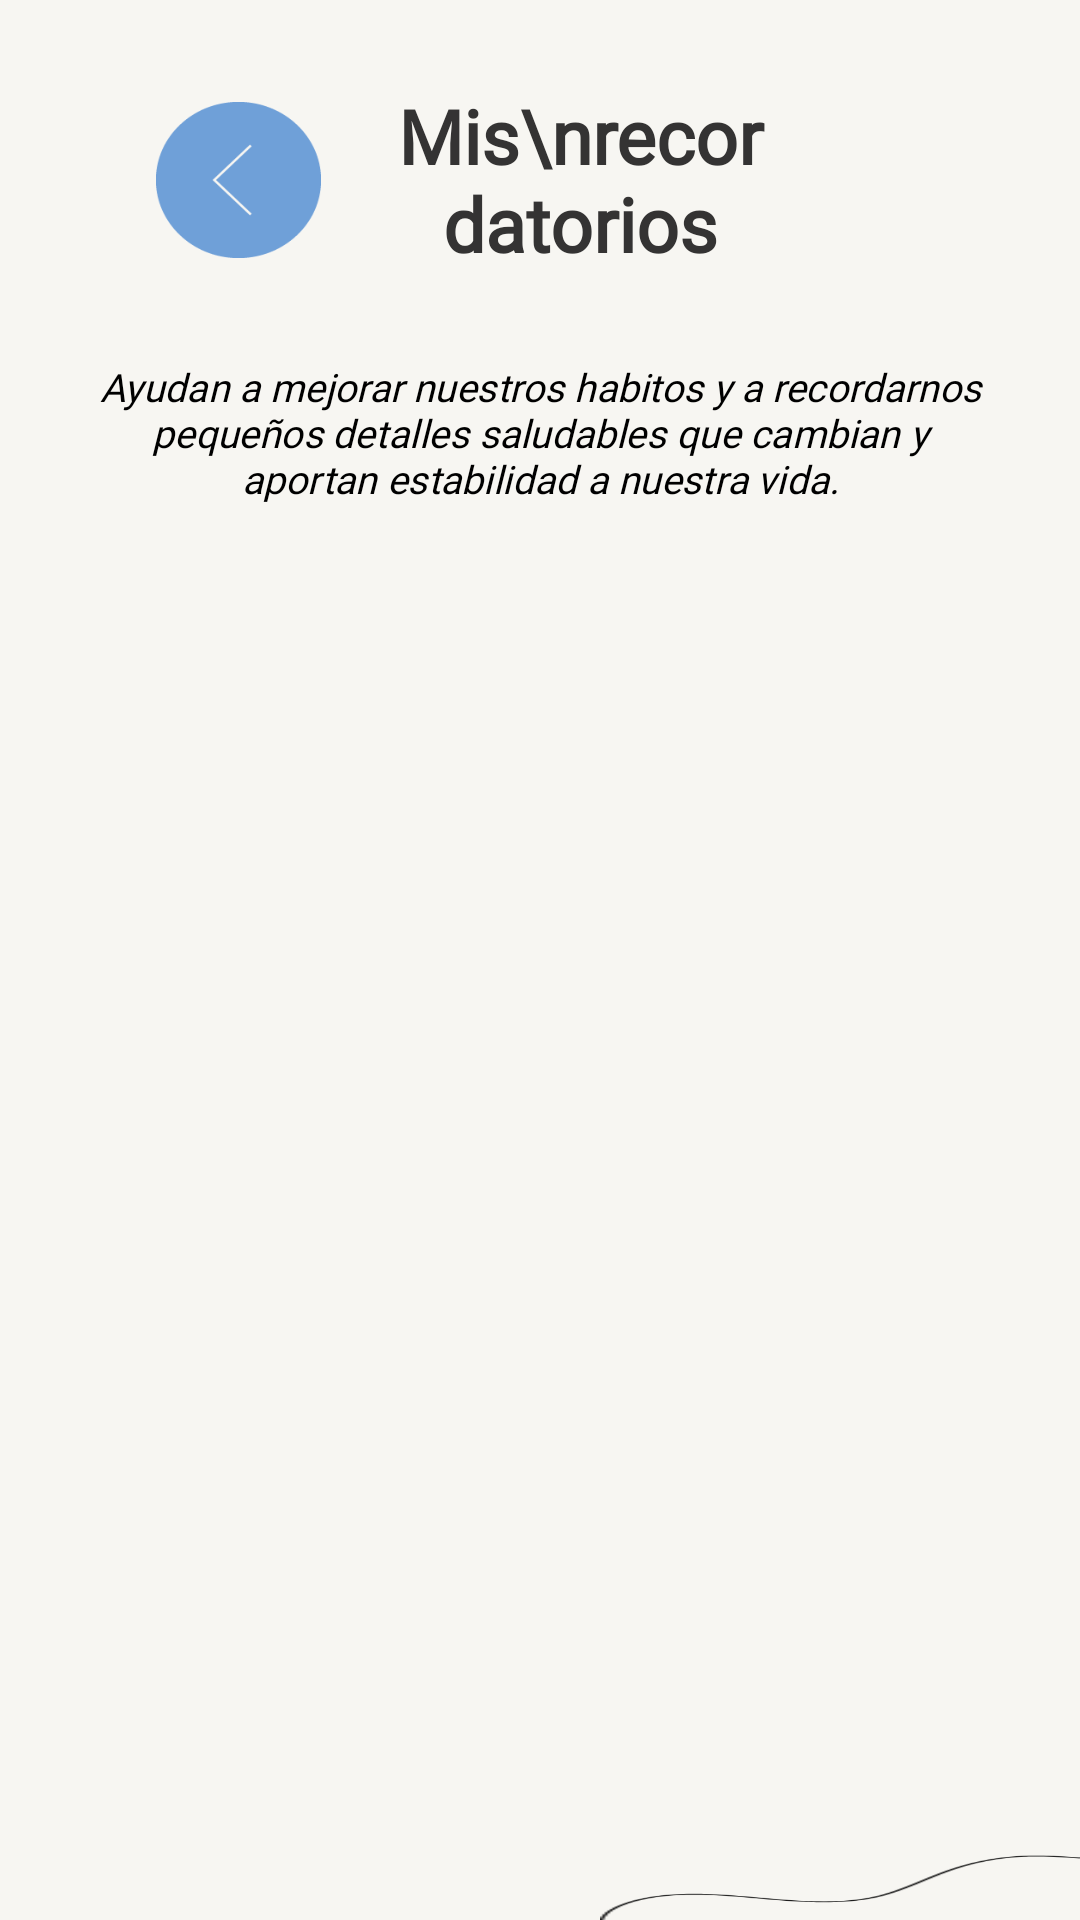

Named icons in this screenshot (1080x1920) and their bounding boxes, (x1, y1, x2, y2):
regresar xxxdpi: (156, 102, 321, 258)
